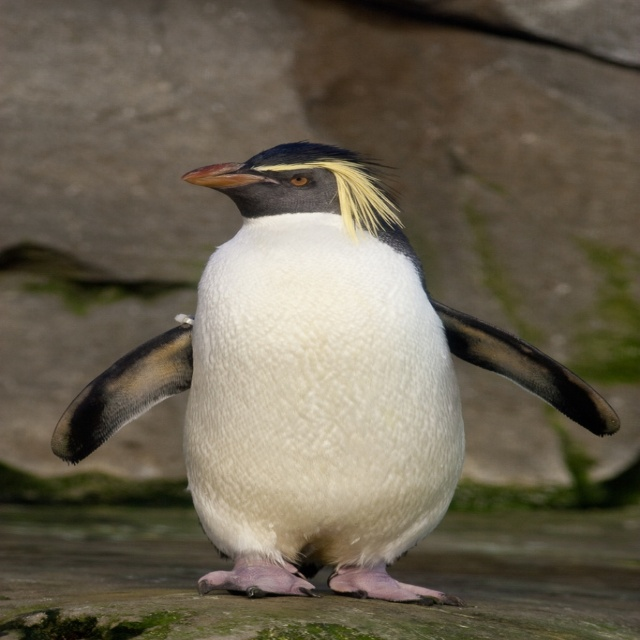Penguin: (51, 140, 621, 605)
